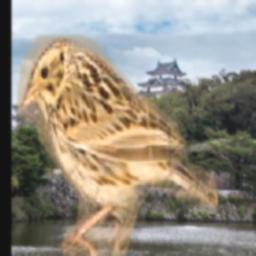Sparrow: (17, 37, 218, 256)
